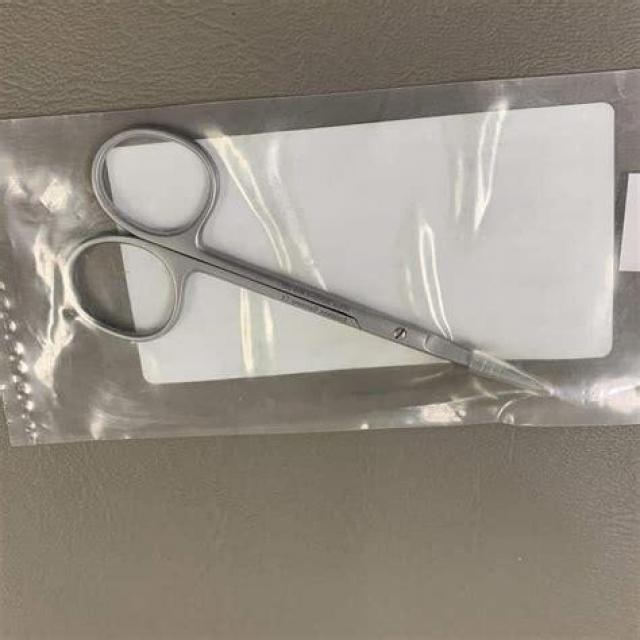Iris: (60, 117, 568, 401)
